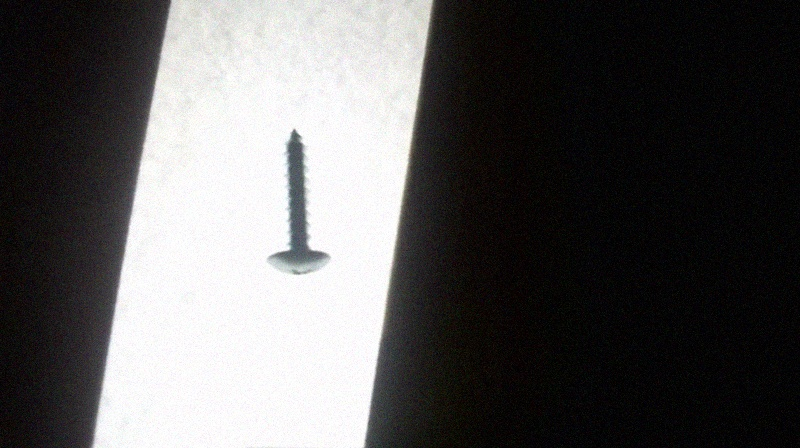S003: (262, 125, 336, 281)
